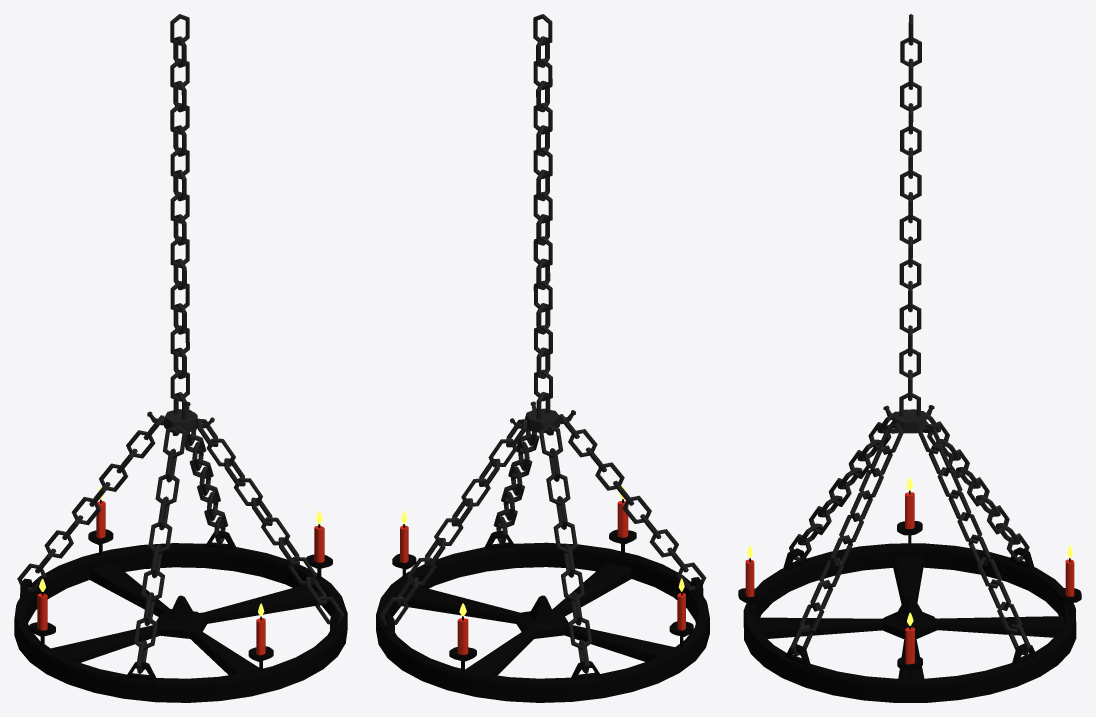
The model's file is Chandelier.fbx.
The picture shows the model from 3 angles, left to right: view 1: azimuth 30°, elevation 25°; view 2: azimuth 150°, elevation 25°; view 3: azimuth 270°, elevation 25°; orthographic projection.
Parts seen in each view (by area): view 1: ChandelierFrame, Chandelier, ChandelierChain.002, ChandelierChain.003, ChandelierChain.001, ChandelierChain.004, ChandelierHanger; view 2: ChandelierFrame, Chandelier, ChandelierChain.004, ChandelierChain.001, ChandelierChain.003, ChandelierChain.002, ChandelierHanger; view 3: ChandelierFrame, Chandelier, ChandelierChain.004, ChandelierChain.002, ChandelierChain.003, ChandelierChain.001, ChandelierHanger.
Part boxes in pixels (x1=…): ChandelierFrame: x1=14, y1=486, x2=347, y2=702; Chandelier: x1=170, y1=14, x2=189, y2=419; ChandelierChain.002: x1=197, y1=418, x2=344, y2=624; ChandelierChain.003: x1=133, y1=424, x2=186, y2=673; ChandelierChain.001: x1=17, y1=415, x2=164, y2=591; ChandelierChain.004: x1=185, y1=409, x2=228, y2=545; ChandelierHanger: x1=147, y1=401, x2=214, y2=435; ChandelierFrame: x1=376, y1=486, x2=709, y2=702; Chandelier: x1=533, y1=14, x2=552, y2=419; ChandelierChain.004: x1=379, y1=419, x2=527, y2=625; ChandelierChain.001: x1=539, y1=424, x2=592, y2=673; ChandelierChain.003: x1=559, y1=414, x2=706, y2=590; ChandelierChain.002: x1=493, y1=409, x2=539, y2=545; ChandelierHanger: x1=510, y1=401, x2=575, y2=435; ChandelierFrame: x1=738, y1=477, x2=1081, y2=702; Chandelier: x1=899, y1=14, x2=921, y2=416; ChandelierChain.004: x1=917, y1=422, x2=1030, y2=655; ChandelierChain.002: x1=790, y1=423, x2=903, y2=656; ChandelierChain.003: x1=789, y1=411, x2=897, y2=562; ChandelierChain.001: x1=921, y1=411, x2=1029, y2=562; ChandelierHanger: x1=883, y1=405, x2=936, y2=433.
Bounding box in the file's own units: 206 × 410 × 206.
